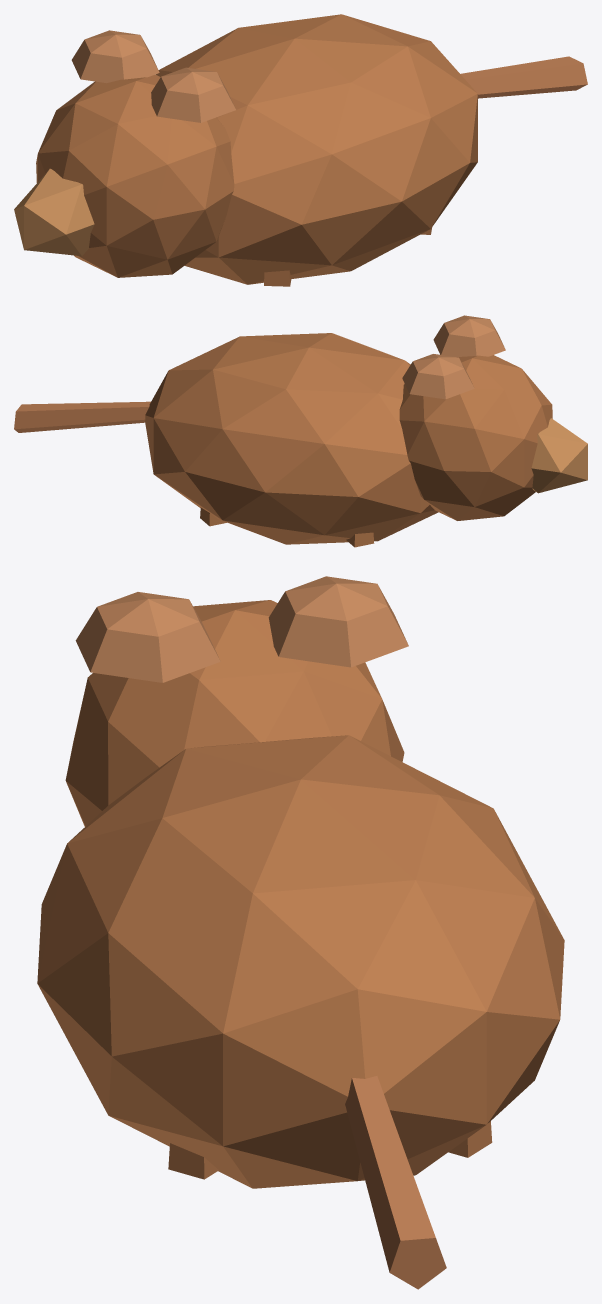
Rendered from rat_fire_v1.glb.
3 renders of one model, top to bottom at view 1: azimuth 30°, elevation 25°; view 2: azimuth 150°, elevation 25°; view 3: azimuth 270°, elevation 25°, orthographic. The views are drawn at different scales.
Parts seen in each view (by area): view 1: world; view 2: world; view 3: world.
Part boxes in pixels (left/top/right/bottom): world: left=14, top=14, right=587, bottom=286; world: left=14, top=315, right=587, bottom=547; world: left=37, top=576, right=564, bottom=1289.
Size of the model in its own units: 1 by 0.3958 by 0.444.
